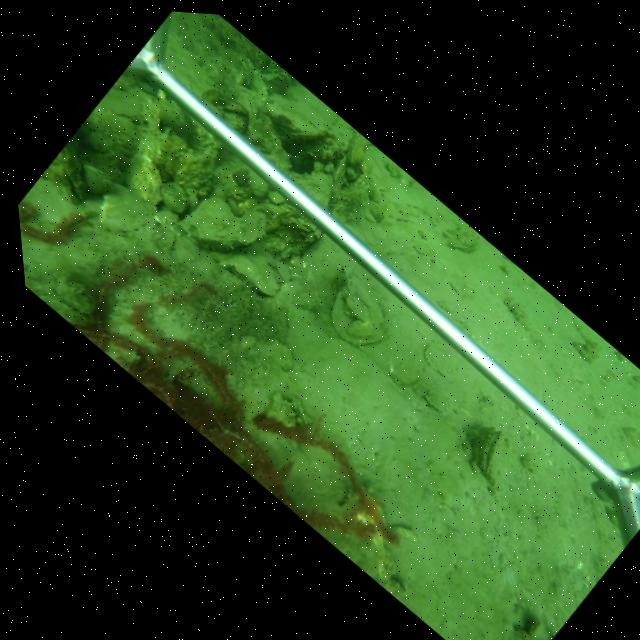Oyster-Closed: (170, 194, 269, 254), (212, 246, 281, 299), (472, 430, 506, 489), (345, 128, 373, 165), (283, 125, 333, 142)
